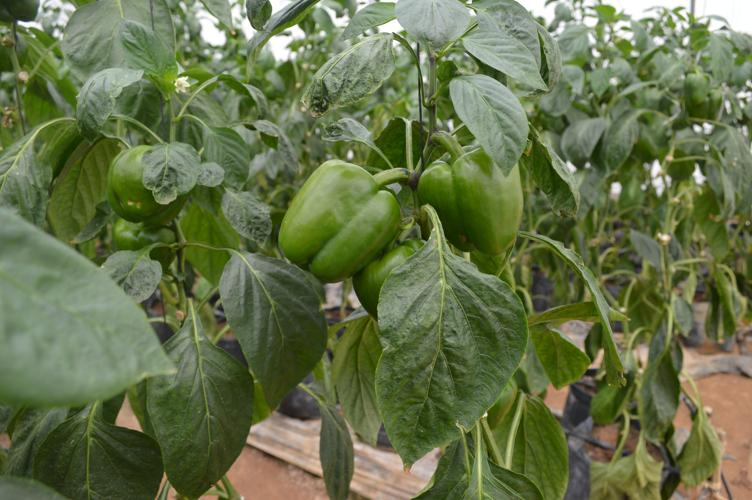BellPepper: (277, 164, 398, 276), (421, 143, 523, 253), (103, 144, 186, 222), (350, 243, 426, 321), (110, 222, 173, 264)
